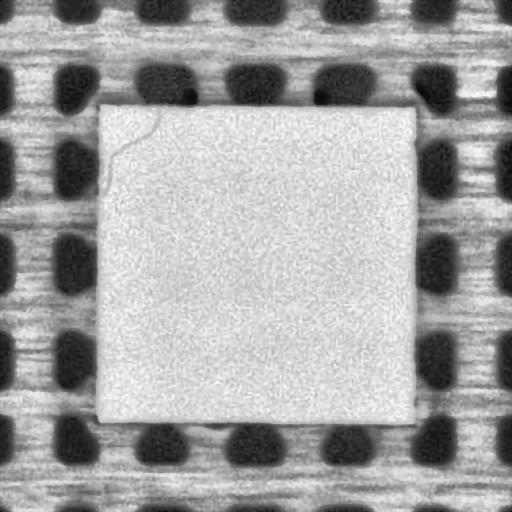DIE_CRACK: (100, 106, 163, 194)
